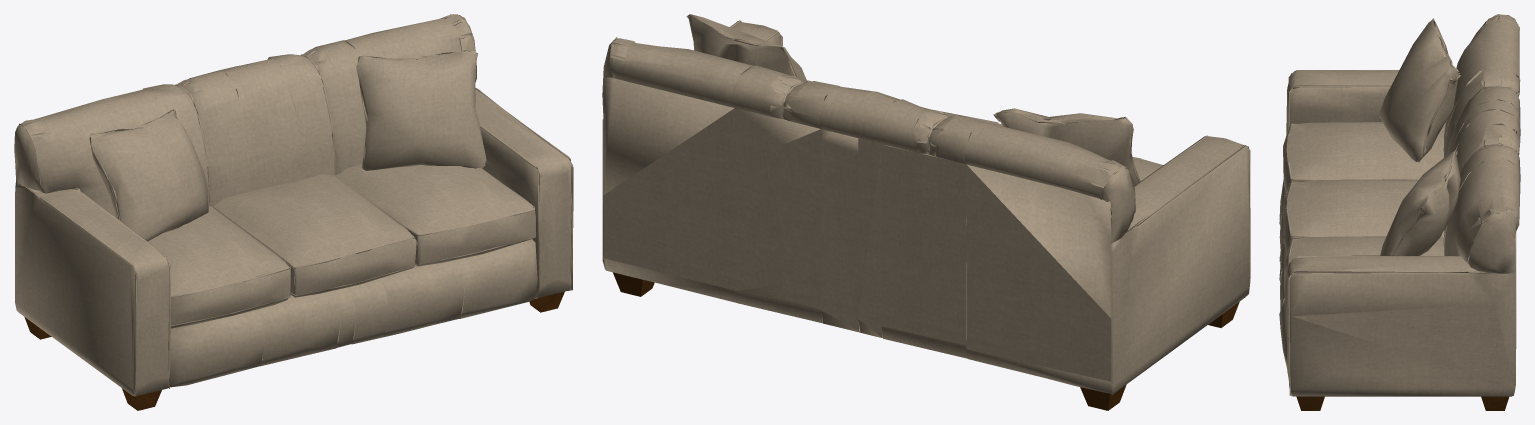
The picture shows the model from 3 angles, left to right: view 1: azimuth 30°, elevation 25°; view 2: azimuth 150°, elevation 25°; view 3: azimuth 270°, elevation 25°; orthographic projection. The views are drawn at different scales.
Parts seen in each view (by area): view 1: visual_RootNode; view 2: visual_RootNode; view 3: visual_RootNode.
Part boxes in pixels (x1,y1,x2,y2): visual_RootNode: [14, 14, 573, 410]; visual_RootNode: [602, 14, 1250, 410]; visual_RootNode: [1279, 14, 1520, 410].
Size of the model in its own units: 2.02 by 1 by 0.9578.
Materials: 1 (1 with a texture image).
